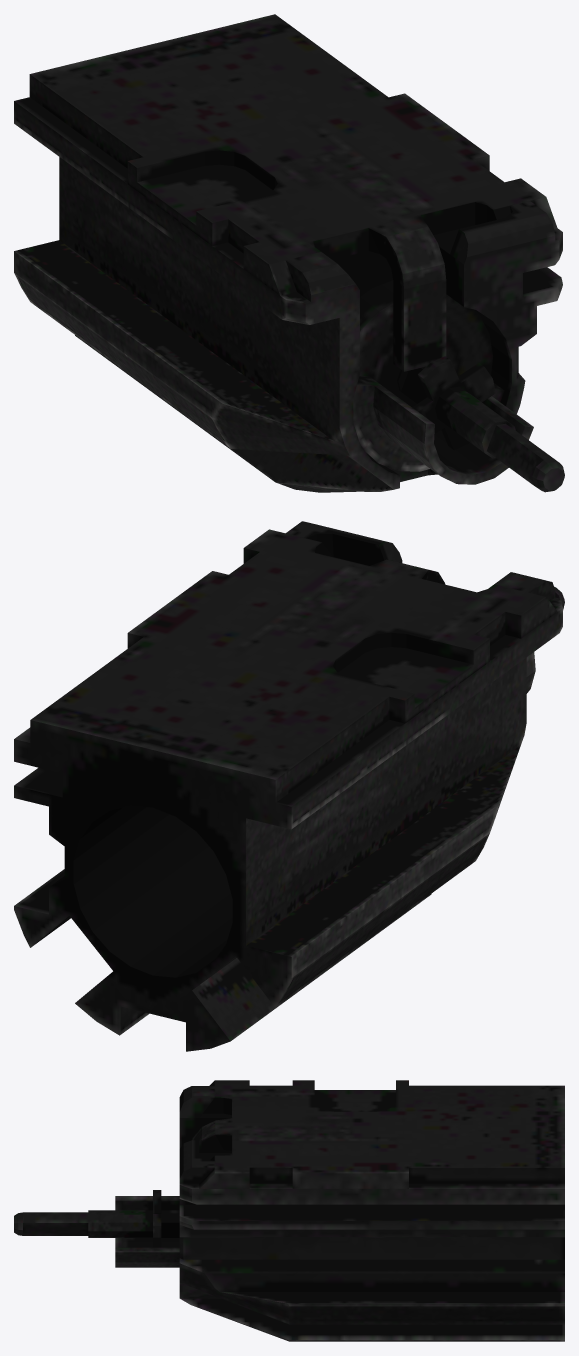
The picture shows the model from 3 angles, top to bottom: view 1: azimuth 30°, elevation 25°; view 2: azimuth 150°, elevation 25°; view 3: azimuth 270°, elevation 25°; orthographic projection. The views are drawn at different scales.
Parts seen in each view (by area): view 1: TW_5e848cc2988a8701445df1e8_PZ_Import; view 2: TW_5e848cc2988a8701445df1e8_PZ_Import; view 3: TW_5e848cc2988a8701445df1e8_PZ_Import.
Boxes of the visible parts, <box> form: TW_5e848cc2988a8701445df1e8_PZ_Import: <box>14,14,564,492</box>; TW_5e848cc2988a8701445df1e8_PZ_Import: <box>14,521,564,1051</box>; TW_5e848cc2988a8701445df1e8_PZ_Import: <box>14,1080,564,1341</box>.
Bounding box in the file's own units: 0.0218 × 0.0546 × 0.0221.
1 material, 1 textured.
